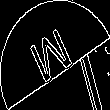M_SE: (29, 22, 81, 88)
